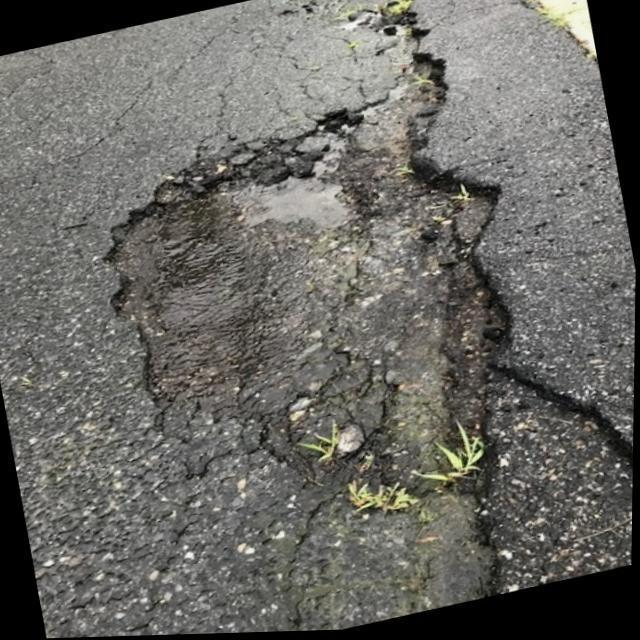Pothole: (102, 39, 638, 594)
